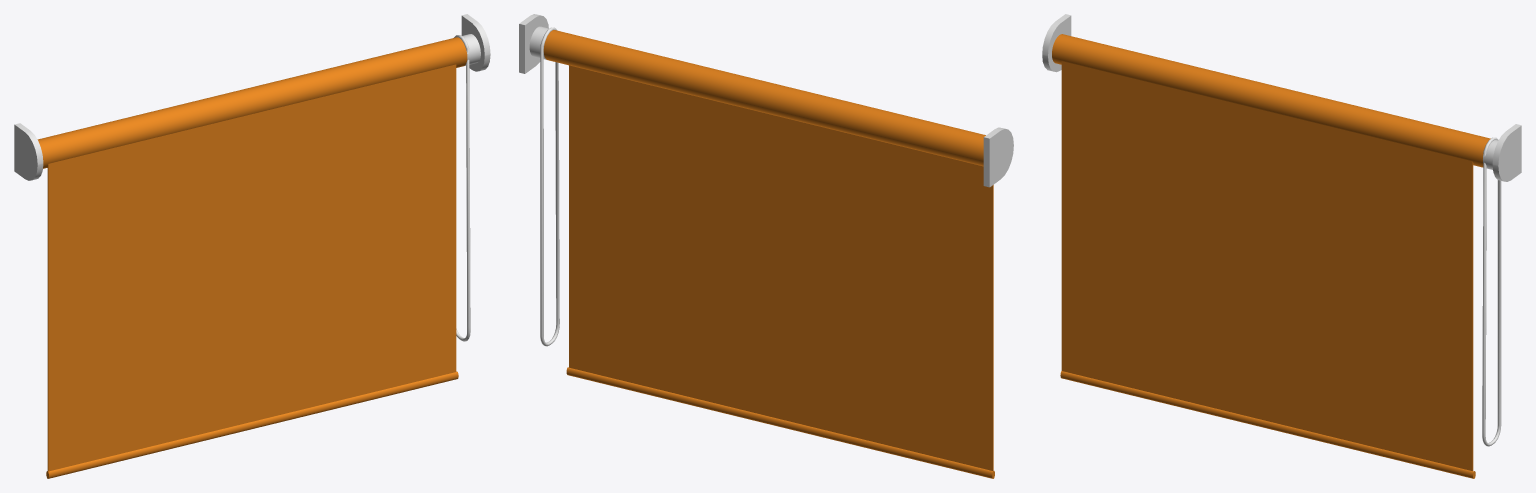
File: roleta_2_v3.fbx
The picture shows the model from 3 angles, left to right: view 1: azimuth 30°, elevation 25°; view 2: azimuth 150°, elevation 25°; view 3: azimuth 330°, elevation 25°; orthographic projection. The views are drawn at different scales.
Visible parts, largest first — view 1: Plane; view 2: Plane; view 3: Plane.
Part boxes in pixels (x1,y1,x2,y2): Plane: [14, 14, 490, 478]; Plane: [519, 14, 1013, 478]; Plane: [1042, 14, 1521, 478].
Bounding box in the file's own units: 152 × 110 × 13.43.
